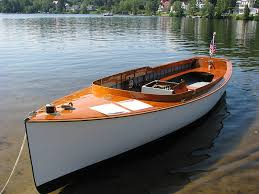boat: (23, 56, 233, 187)
